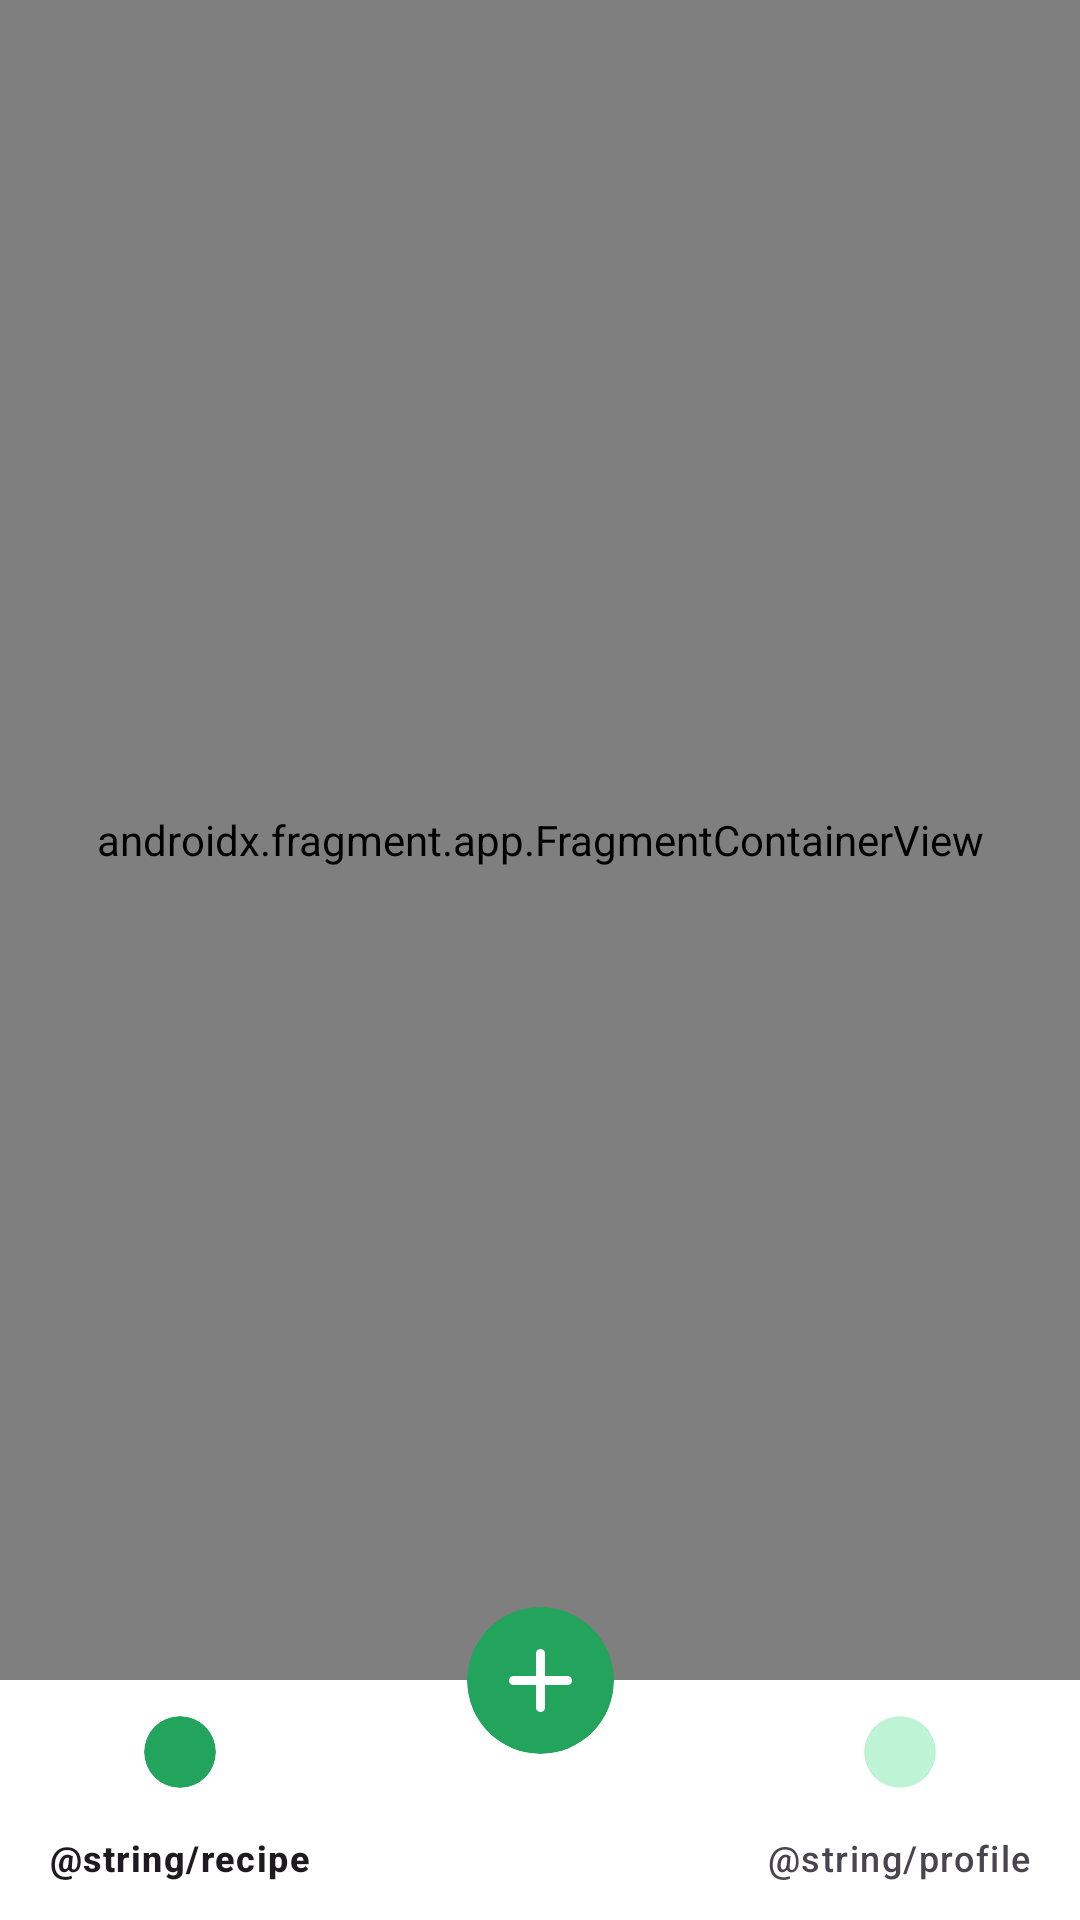

Icon click points for this 1080*1920 phone screenshot, format point (x, y):
add: point (540, 1680)
